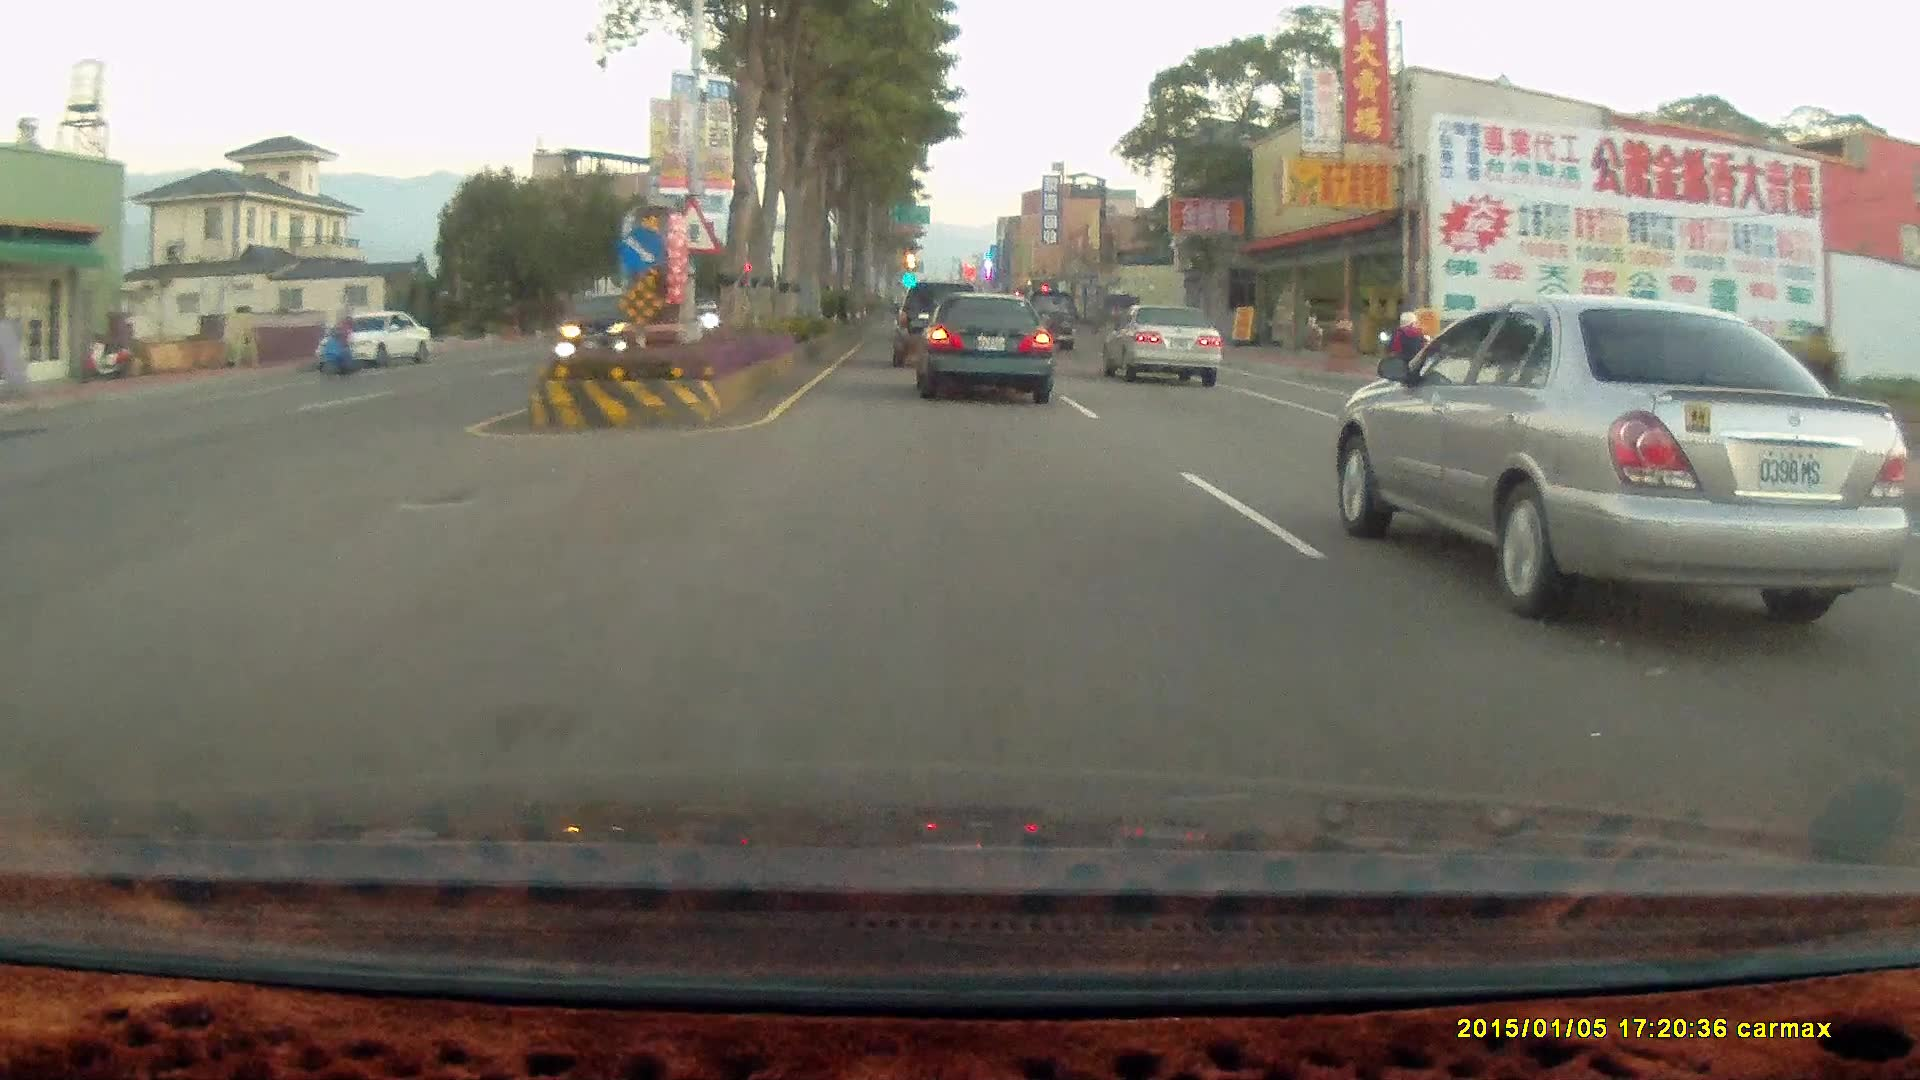rider: (1372, 300, 1444, 424), (1375, 318, 1427, 425), (311, 305, 356, 378)
vehicle: (1347, 288, 1920, 626), (908, 291, 1053, 403), (916, 297, 1059, 403), (1102, 302, 1222, 386), (1108, 304, 1229, 388), (557, 289, 670, 368), (889, 281, 983, 375), (892, 281, 980, 368), (310, 310, 435, 370), (309, 307, 433, 367), (1014, 288, 1077, 351)
